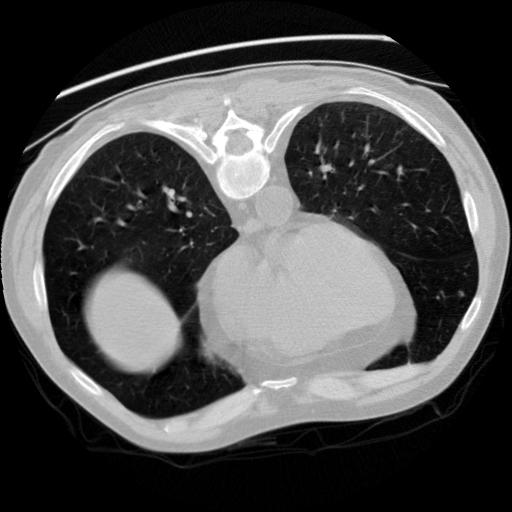nodule: (453, 288, 467, 302)
